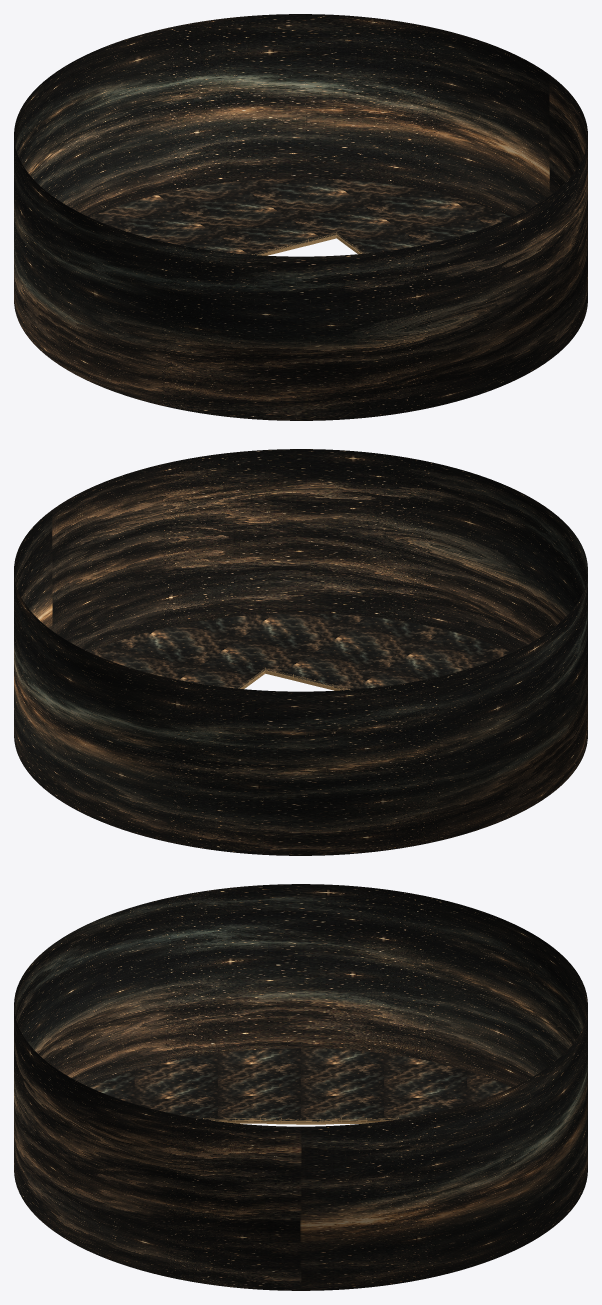
Rendered from last-claim-panorama.glb.
The picture shows the model from 3 angles, top to bottom: view 1: azimuth 30°, elevation 25°; view 2: azimuth 150°, elevation 25°; view 3: azimuth 270°, elevation 25°; orthographic projection.
Parts seen in each view (by area): view 1: LastClaimPanorama; view 2: LastClaimPanorama; view 3: LastClaimPanorama.
Part boxes in pixels (left/top/right/bottom): LastClaimPanorama: left=14, top=14, right=587, bottom=420; LastClaimPanorama: left=14, top=449, right=587, bottom=855; LastClaimPanorama: left=14, top=884, right=587, bottom=1290.
Size of the model in its own units: 380 by 120 by 380.
2 materials, 2 textured.
